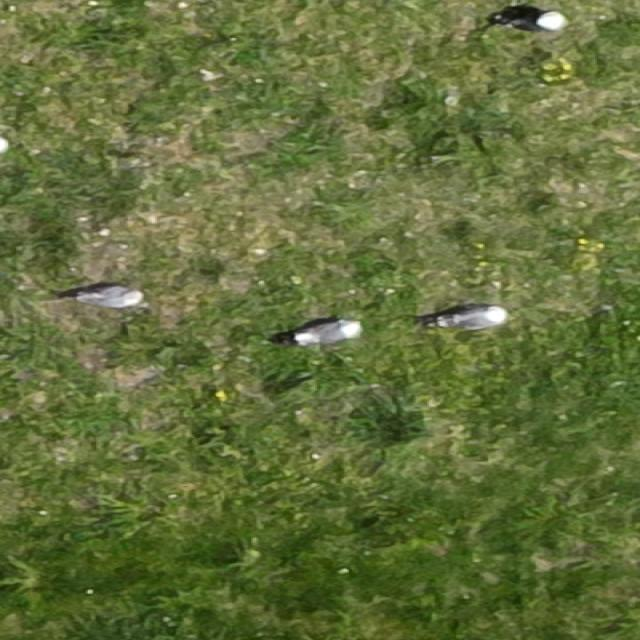umineko: (70, 287, 150, 310), (300, 320, 351, 342), (448, 308, 498, 328), (511, 12, 558, 29)
